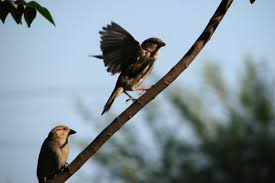hsparrow: (85, 19, 169, 118), (23, 124, 82, 183)
